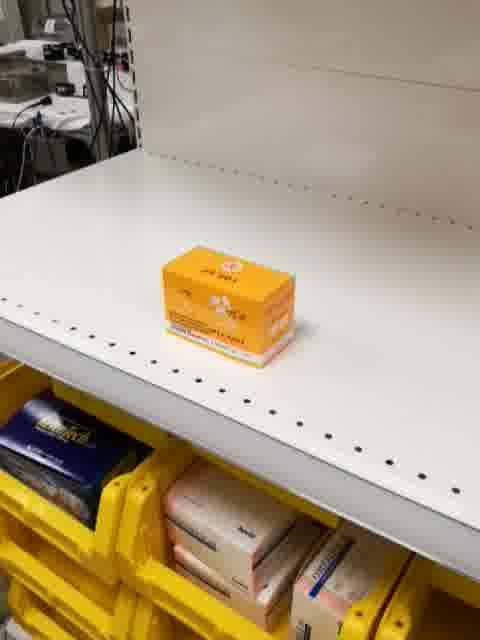jasminetea: (160, 244, 298, 371)
